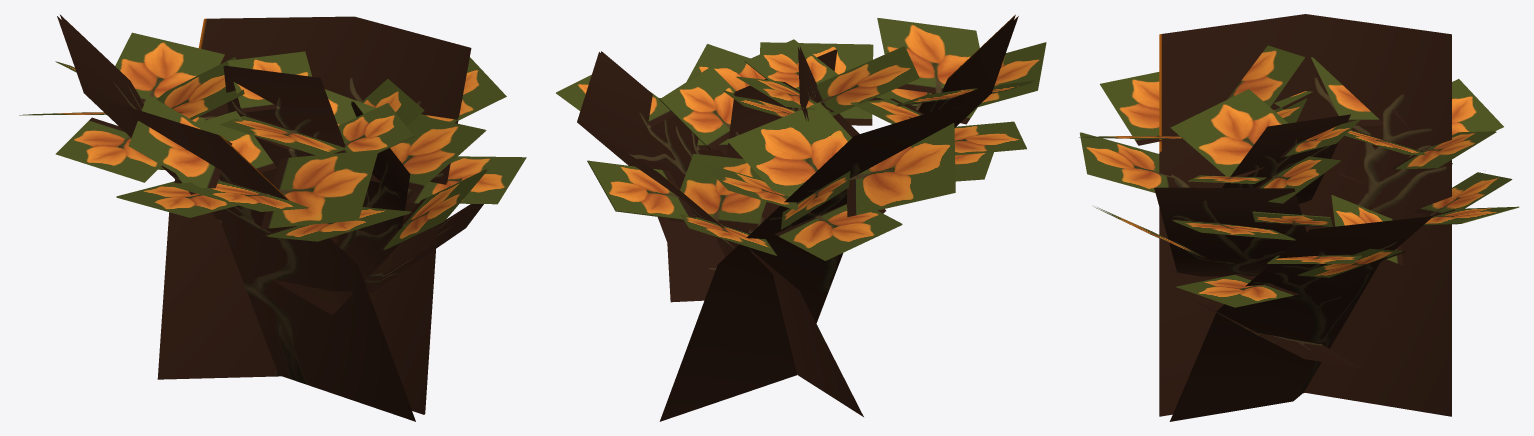
Rendered from bush_03b.fbx.
3 views of the same model, side by side, from view 1: azimuth 30°, elevation 25°; view 2: azimuth 150°, elevation 25°; view 3: azimuth 270°, elevation 25° (orthographic). The views are drawn at different scales.
Visible parts, largest first — view 1: bush_03b; view 2: bush_03b; view 3: bush_03b.
Boxes of the visible parts, x1,y1,x2,y2 form: bush_03b: (19,14,526,421); bush_03b: (556,14,1046,421); bush_03b: (1079,14,1519,421).
Bounding box in the file's own units: 7.09 × 5.12 × 6.94.
